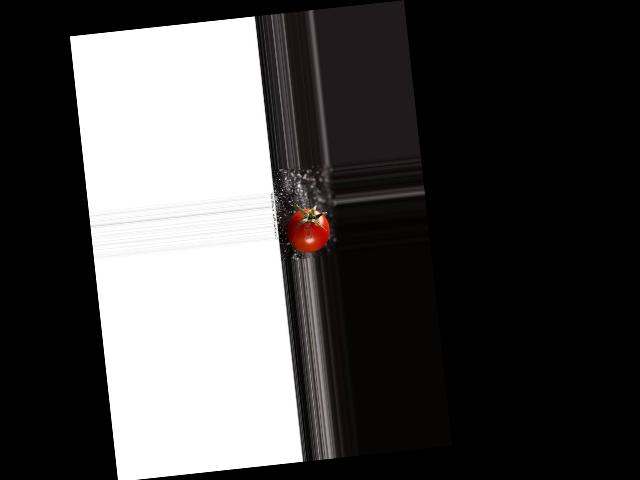tomato: (284, 206, 331, 254)
